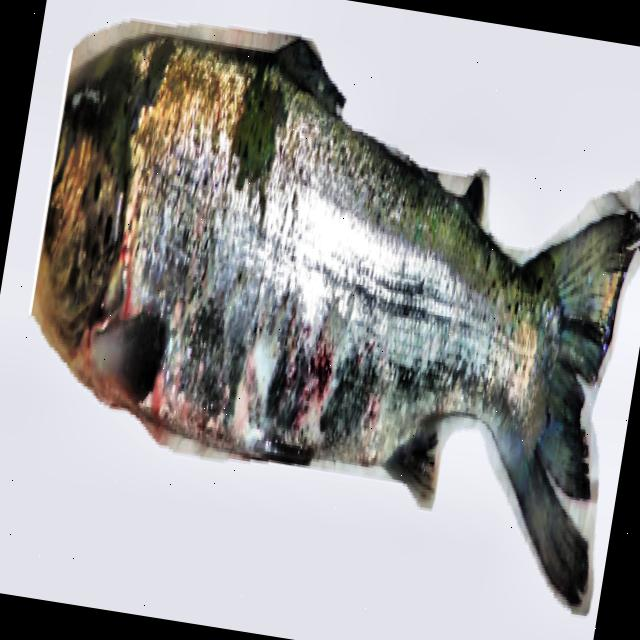mild_red: (122, 44, 546, 464)
